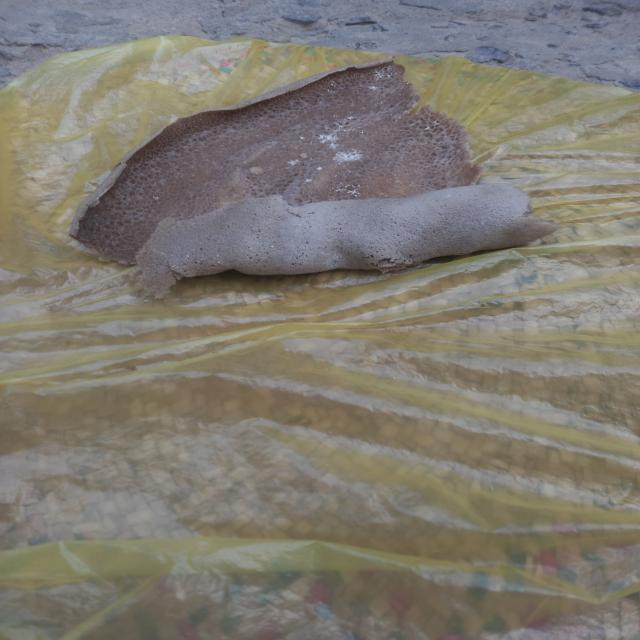injera_mold: (317, 128, 342, 146), (333, 183, 360, 197), (333, 150, 361, 163), (371, 68, 388, 82), (342, 113, 358, 123), (325, 257, 341, 267), (286, 157, 302, 166), (265, 140, 281, 149), (182, 252, 192, 262), (314, 164, 326, 172), (304, 176, 314, 185), (368, 85, 378, 92), (424, 125, 432, 132), (334, 122, 342, 128), (343, 128, 350, 134), (331, 80, 337, 87), (298, 135, 306, 140), (433, 119, 438, 127), (151, 195, 159, 200), (442, 194, 450, 198), (347, 170, 352, 176), (342, 174, 347, 180), (405, 81, 411, 86), (409, 123, 416, 127), (328, 187, 333, 192), (288, 193, 294, 197), (333, 173, 337, 179), (159, 192, 165, 196), (249, 247, 254, 251), (268, 216, 272, 221), (324, 125, 329, 129), (303, 110, 308, 114), (372, 154, 377, 158), (384, 195, 390, 198), (270, 245, 274, 249), (309, 140, 313, 144), (352, 128, 356, 132), (358, 118, 362, 122), (374, 166, 378, 170), (446, 173, 450, 177), (216, 260, 221, 263), (232, 245, 237, 248), (361, 129, 364, 134), (357, 125, 362, 128), (397, 93, 402, 96), (389, 113, 394, 116), (399, 156, 404, 159), (374, 173, 379, 176), (200, 258, 204, 261), (173, 264, 176, 268), (170, 254, 174, 257), (312, 134, 315, 138), (332, 115, 338, 117), (326, 89, 330, 92), (380, 101, 384, 104), (197, 260, 200, 263), (179, 269, 182, 272), (198, 272, 200, 276), (309, 192, 313, 194), (197, 268, 199, 270), (217, 255, 219, 257), (394, 174, 396, 176)
